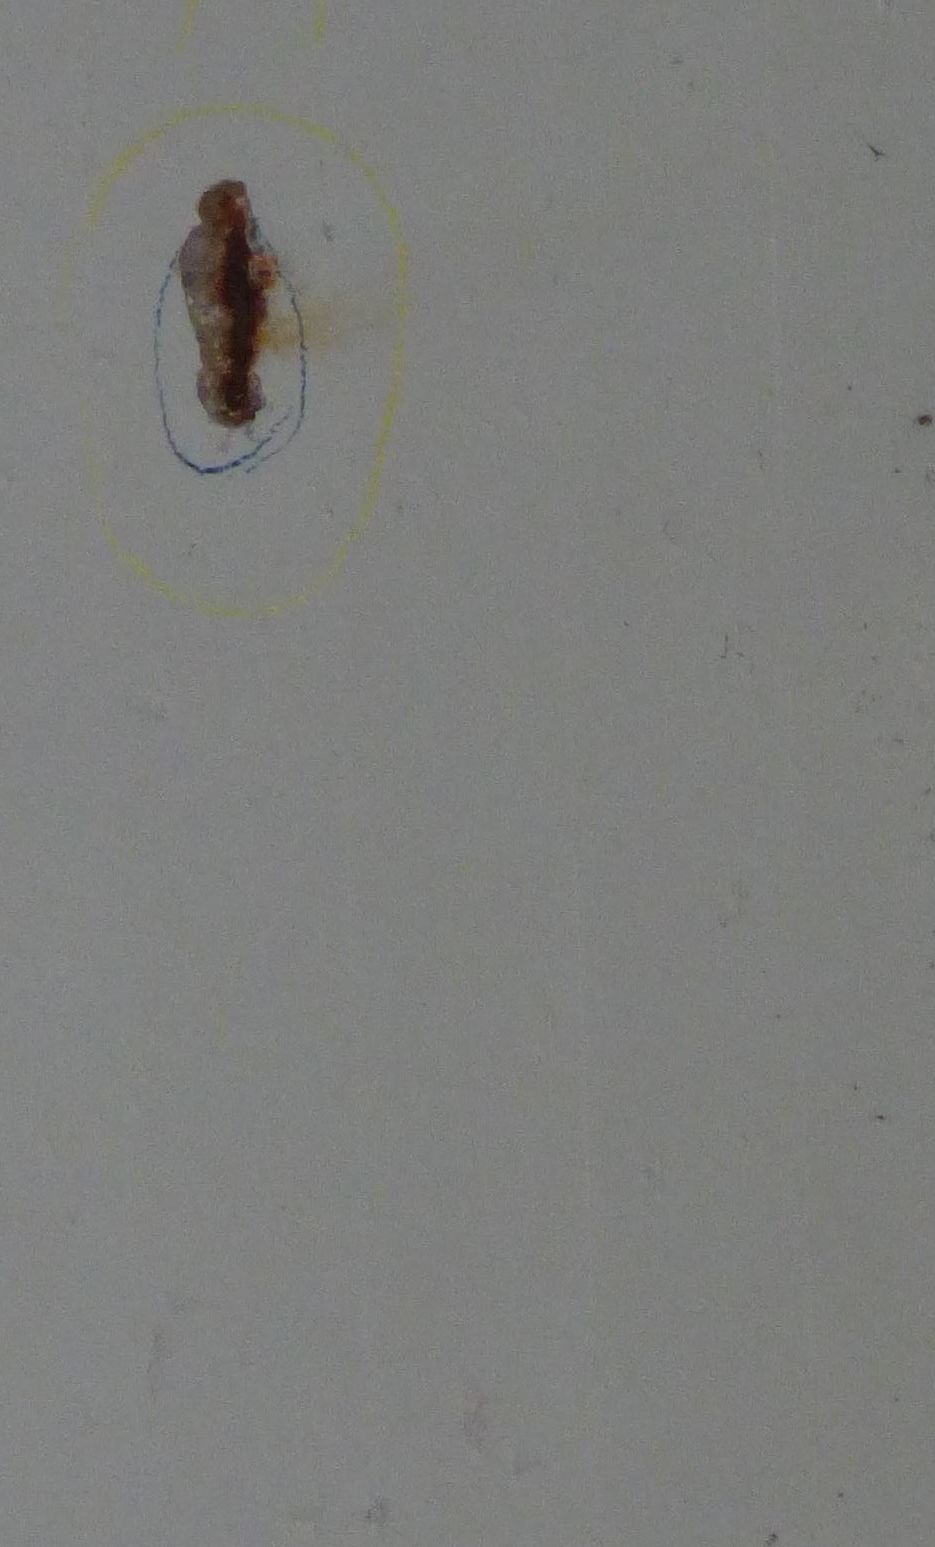Exposed reinforcement: (222, 227, 253, 408)
Spalling: (178, 180, 279, 429)
